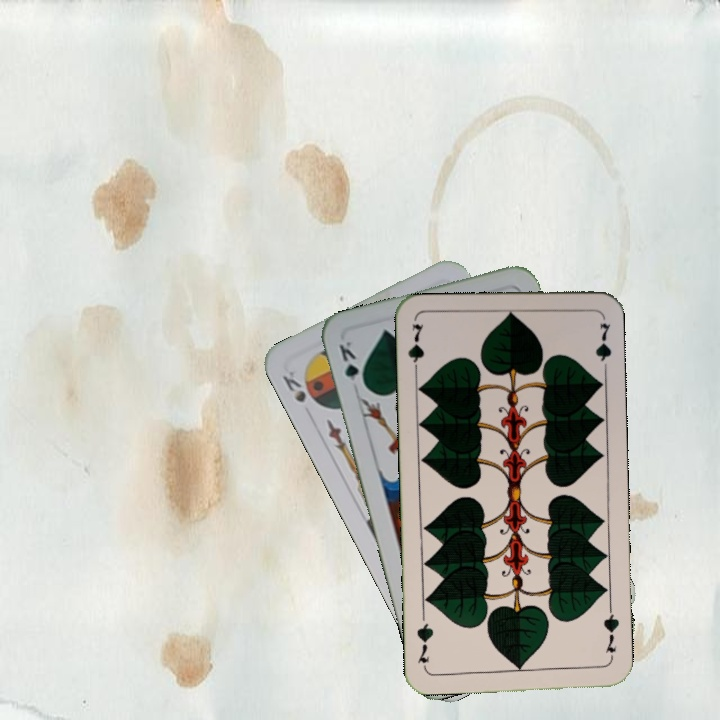G7: (404, 319, 427, 378), (599, 604, 622, 663)
GK: (335, 337, 368, 392)
SK: (278, 365, 309, 406)
